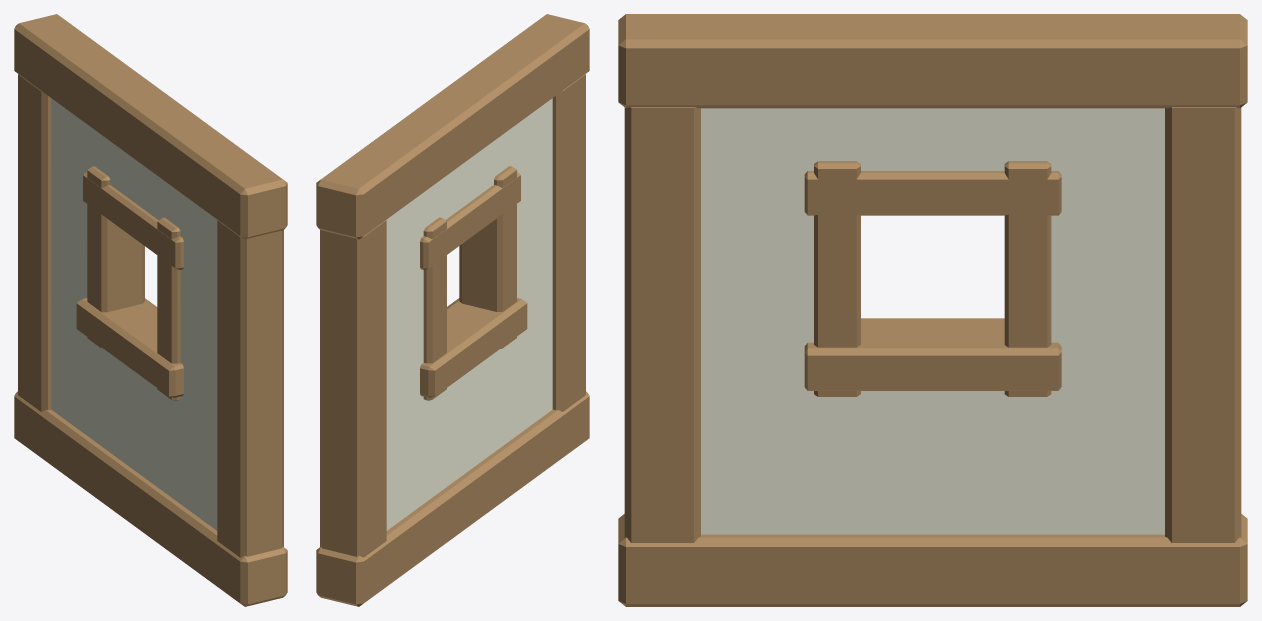
The model's file is WallWithWindow_1.fbx.
3 views of the same model, side by side, from view 1: azimuth 30°, elevation 25°; view 2: azimuth 150°, elevation 25°; view 3: azimuth 270°, elevation 25° (orthographic). The views are drawn at different scales.
Parts seen in each view (by area): view 1: WallWithWindow_1; view 2: WallWithWindow_1; view 3: WallWithWindow_1.
Boxes of the visible parts, x1,y1,x2,y2 form: WallWithWindow_1: (14, 14, 287, 606); WallWithWindow_1: (316, 14, 589, 606); WallWithWindow_1: (618, 14, 1247, 606).
Bounding box in the file's own units: 0.3279 × 2.32 × 2.33.
